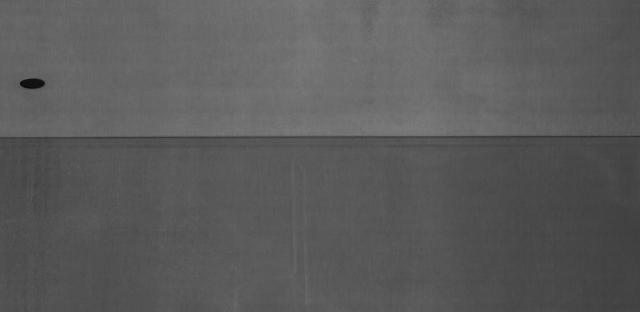punching_hole: (16, 74, 51, 94)
welding_line: (1, 124, 640, 148)
